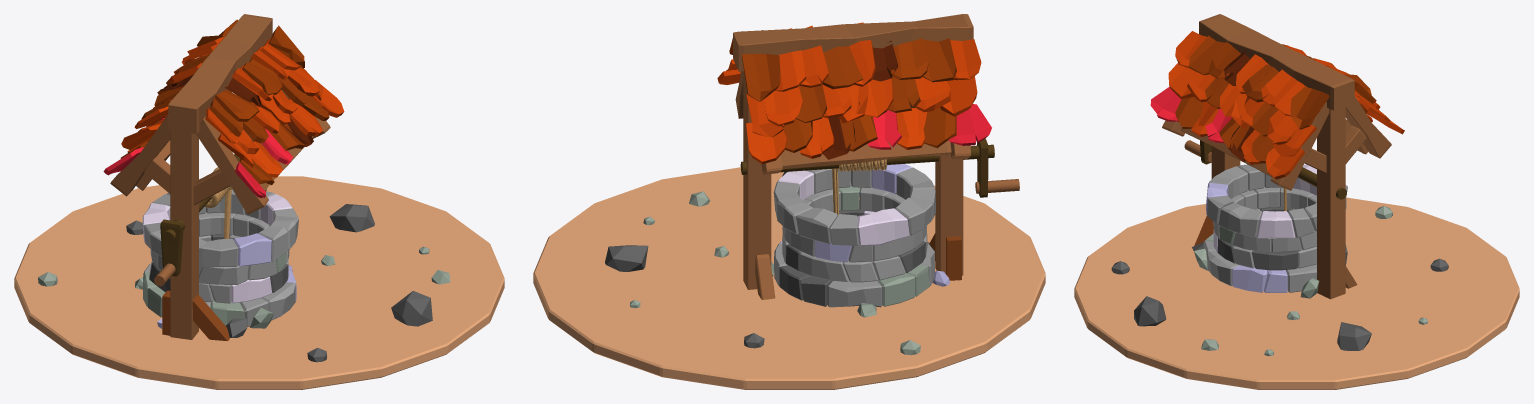
File: WELL.fbx
3 views of the same model, side by side, from view 1: azimuth 30°, elevation 25°; view 2: azimuth 150°, elevation 25°; view 3: azimuth 270°, elevation 25° (orthographic). The views are drawn at different scales.
Parts seen in each view (by area): view 1: Цилиндр.002, Куб, Куб.001, Куб.003, Куб.004, Икосфера.002, Cube.022, Плоскость.007, Плоскость.004, Cube.020, Икосфера.001, Куб.007 (+31 smaller); view 2: Цилиндр.002, Куб.001, Куб.002, Куб, Куб.005, Cube.025, Плоскость.001, Cube.030, Плоскость.019, Плоскость.004, Плоскость.007, Плоскость.008 (+51 smaller); view 3: Цилиндр.002, Куб.002, Куб.001, Куб.003, Плоскость.001, Cube.019, Плоскость.019, Cube.017, Куб.004, Плоскость.010, Плоскость.018, Cube.008 (+35 smaller).
Boxes of the visible parts, x1,y1,x2,y2 form: Цилиндр.002: [14, 176, 504, 389]; Куб: [170, 130, 198, 339]; Куб.001: [168, 14, 272, 133]; Куб.003: [110, 89, 330, 214]; Куб.004: [144, 155, 230, 204]; Икосфера.002: [391, 290, 432, 326]; Cube.022: [199, 238, 238, 267]; Плоскость.007: [154, 87, 259, 121]; Плоскость.004: [174, 54, 282, 95]; Cube.020: [234, 233, 271, 266]; Икосфера.001: [329, 204, 374, 232]; Куб.007: [192, 294, 229, 341]; Цилиндр.002: [533, 167, 1045, 389]; Куб.001: [733, 14, 973, 71]; Куб.002: [743, 71, 771, 289]; Куб: [935, 153, 963, 275]; Куб.005: [780, 102, 951, 169]; Cube.025: [857, 208, 909, 245]; Плоскость.001: [729, 30, 780, 101]; Cube.030: [827, 279, 882, 307]; Плоскость.019: [717, 69, 786, 164]; Плоскость.004: [821, 46, 863, 89]; Плоскость.007: [890, 38, 928, 79]; Плоскость.008: [922, 38, 956, 82]; Цилиндр.002: [1074, 197, 1519, 389]; Куб.002: [1317, 106, 1345, 299]; Куб.001: [1199, 14, 1354, 110]; Куб.003: [1162, 96, 1391, 190]; Плоскость.001: [1290, 74, 1376, 129]; Cube.019: [1218, 202, 1262, 237]; Плоскость.019: [1265, 111, 1404, 179]; Cube.017: [1257, 211, 1295, 238]; Куб.004: [1304, 125, 1366, 173]; Плоскость.010: [1267, 91, 1380, 144]; Плоскость.018: [1272, 95, 1390, 156]; Cube.008: [1252, 251, 1297, 270].
Bounding box in the file's own units: 1974 × 1142 × 2002.
